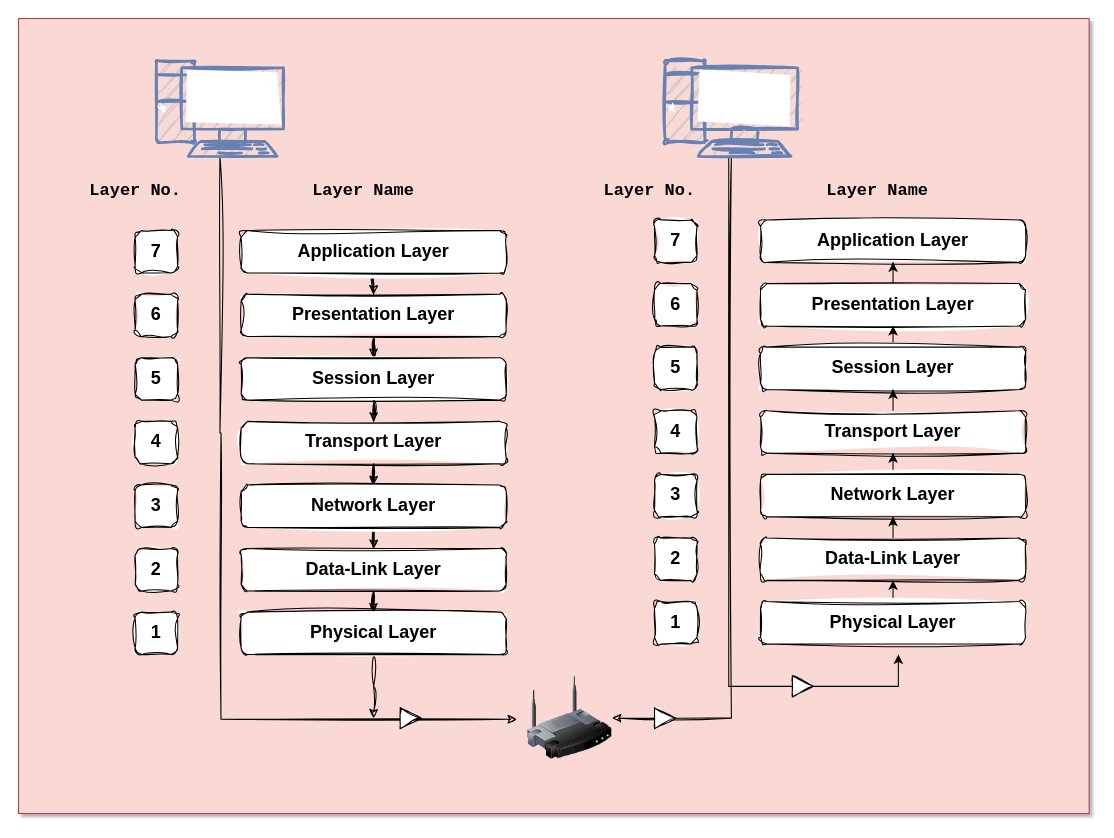
Some shapes in this 1114 by 838 pixel diagram are drawn without their labels. Each missing label, with the box of its shape:
Receiving Node: (664, 59, 798, 157)
Sending Node: (155, 59, 284, 157)
